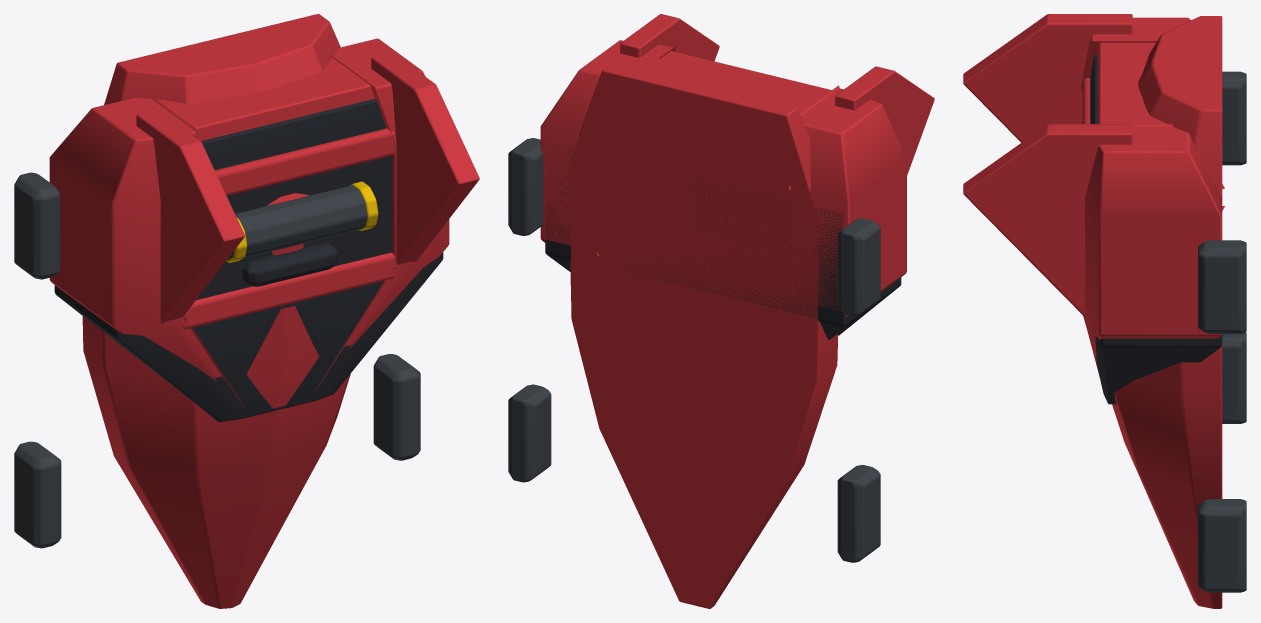
The model's file is ThighBack_Set02_Bastion.fbx.
The picture shows the model from 3 angles, left to right: view 1: azimuth 30°, elevation 25°; view 2: azimuth 150°, elevation 25°; view 3: azimuth 270°, elevation 25°; orthographic projection. The views are drawn at different scales.
Parts seen in each view (by area): view 1: ThighBack_Set02_Bastion; view 2: ThighBack_Set02_Bastion; view 3: ThighBack_Set02_Bastion.
Boxes of the visible parts, x1,y1,x2,y2 form: ThighBack_Set02_Bastion: [14, 14, 479, 608]; ThighBack_Set02_Bastion: [508, 14, 934, 608]; ThighBack_Set02_Bastion: [963, 14, 1246, 608].
Size of the model in its own units: 0.53 by 0.73 by 0.3481.
